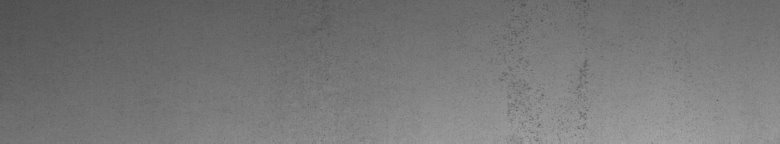ib: (499, 4, 592, 136)
